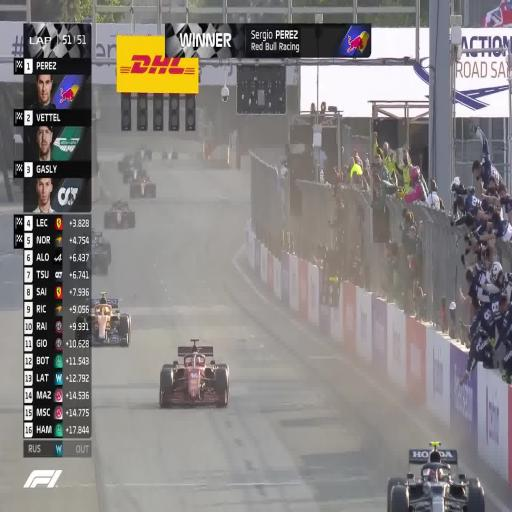f1_car: (387, 441, 484, 511), (159, 339, 229, 406), (77, 293, 130, 346), (89, 229, 111, 274), (104, 201, 135, 229), (129, 176, 156, 198), (120, 148, 140, 167), (122, 162, 143, 180), (162, 146, 180, 164), (137, 144, 153, 160), (77, 331, 83, 335)
